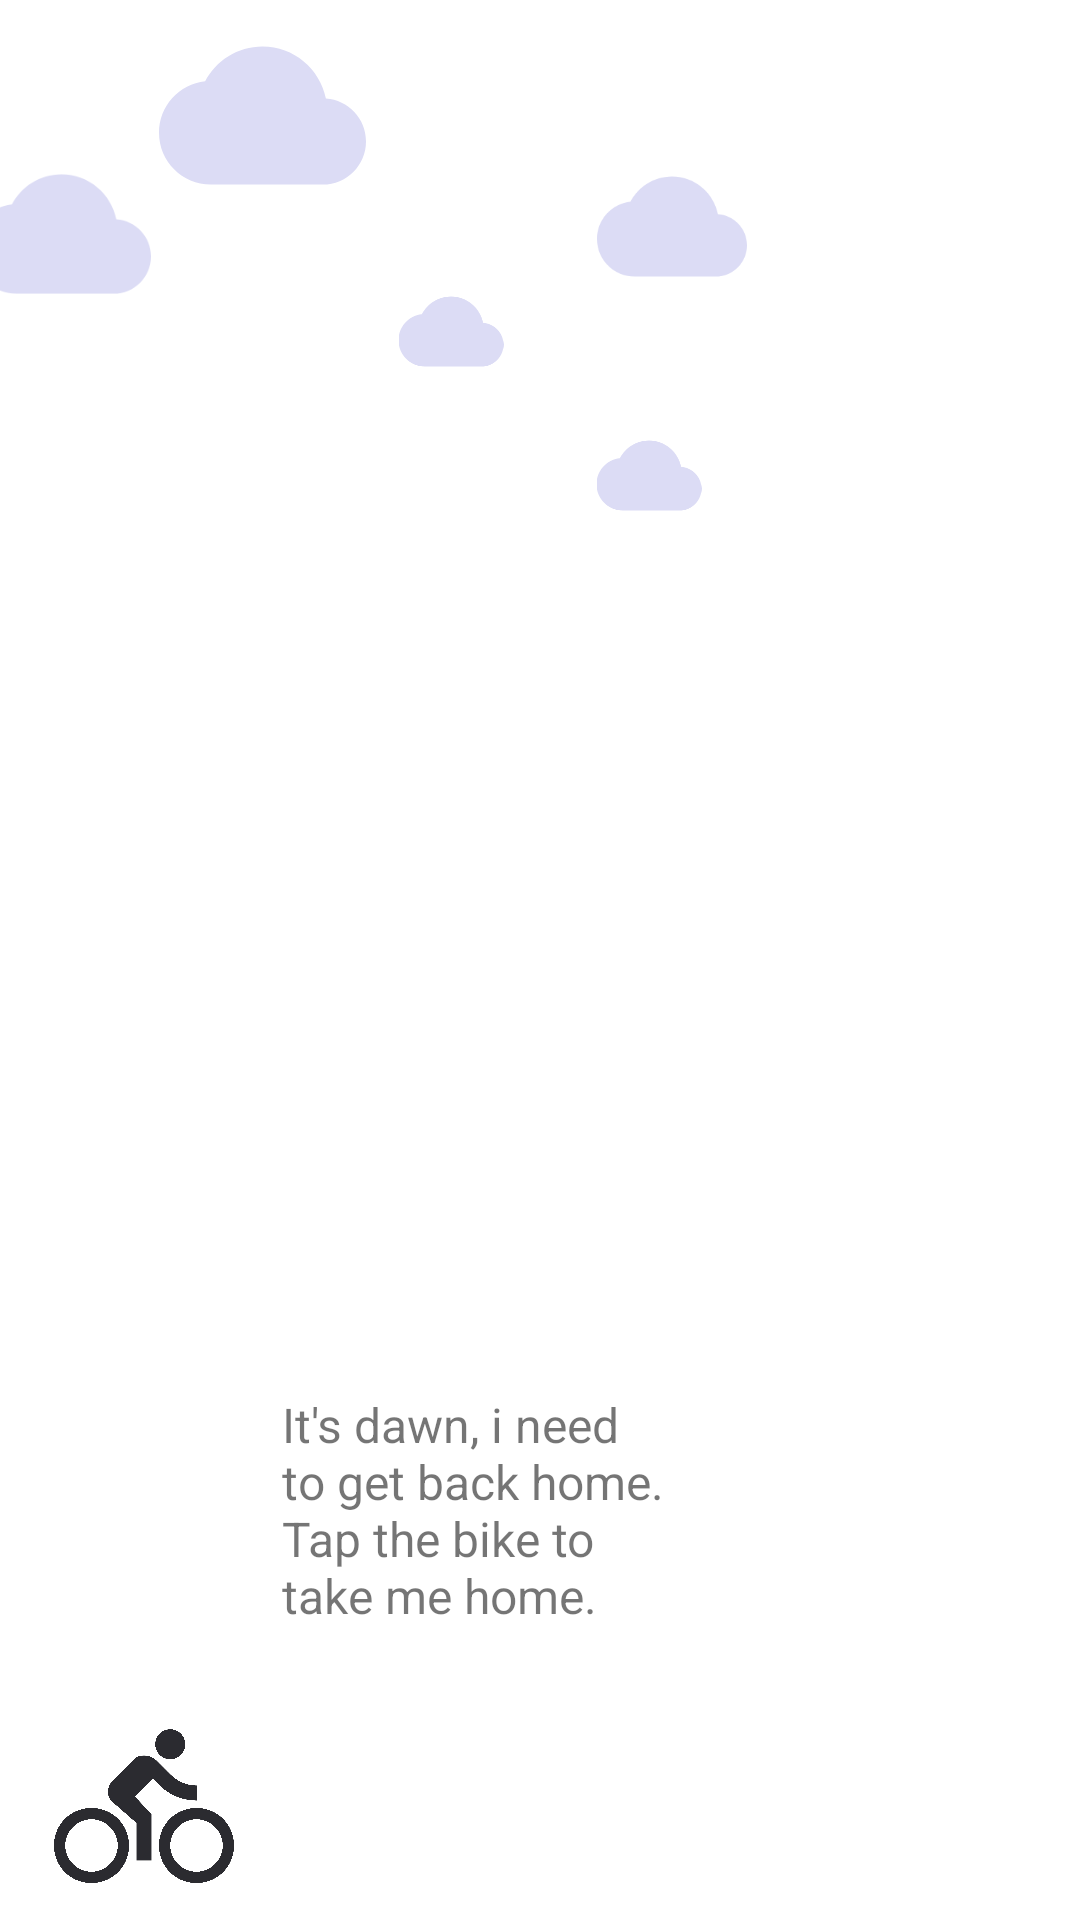

Icon click points for this 1080*1920 phone screenshot, format [x,y]:
directions bike: [144,1806]
